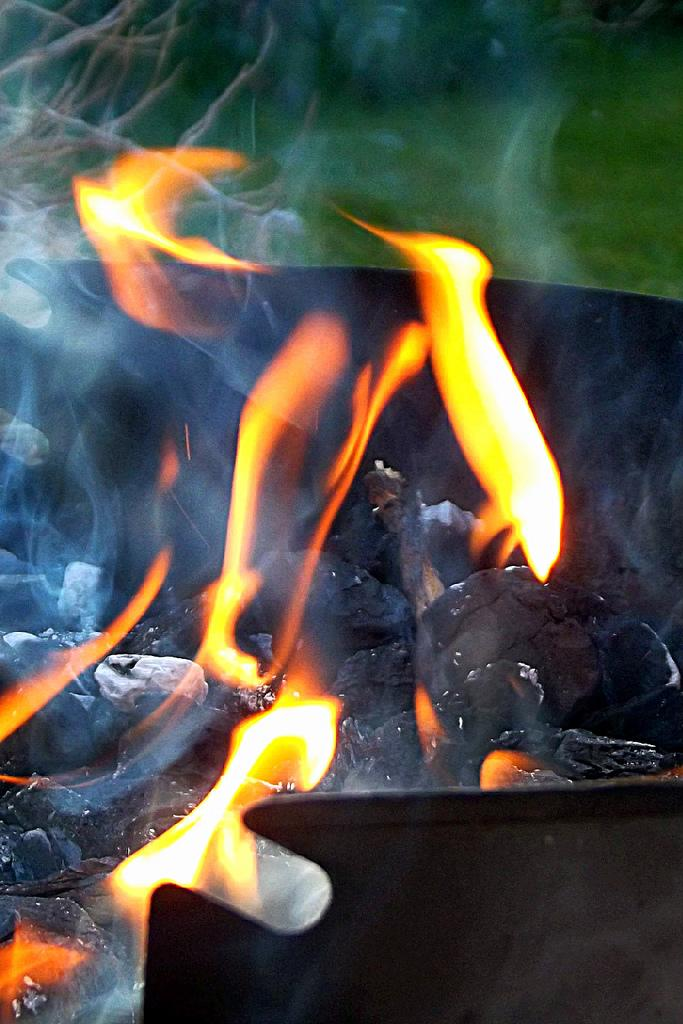fire: (142, 715, 345, 922), (427, 260, 560, 560), (200, 340, 287, 655)
